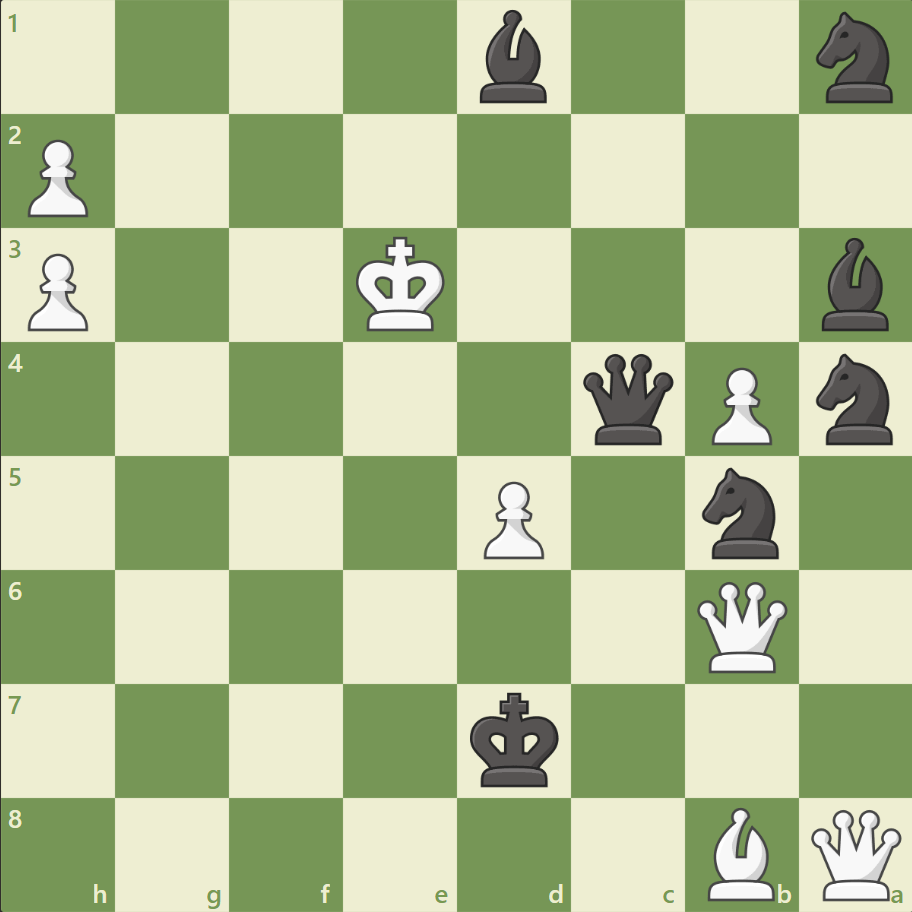B: (698, 801, 782, 904)
K: (351, 231, 451, 339)
P: (474, 473, 549, 564), (701, 359, 776, 450), (20, 246, 95, 337), (20, 132, 95, 223)
Q: (691, 576, 790, 676), (805, 804, 904, 903)
b: (812, 233, 896, 336), (471, 6, 555, 109)
k: (465, 685, 565, 793)
n: (692, 461, 789, 564), (806, 7, 903, 110), (806, 348, 903, 450)
q: (578, 349, 677, 449)
